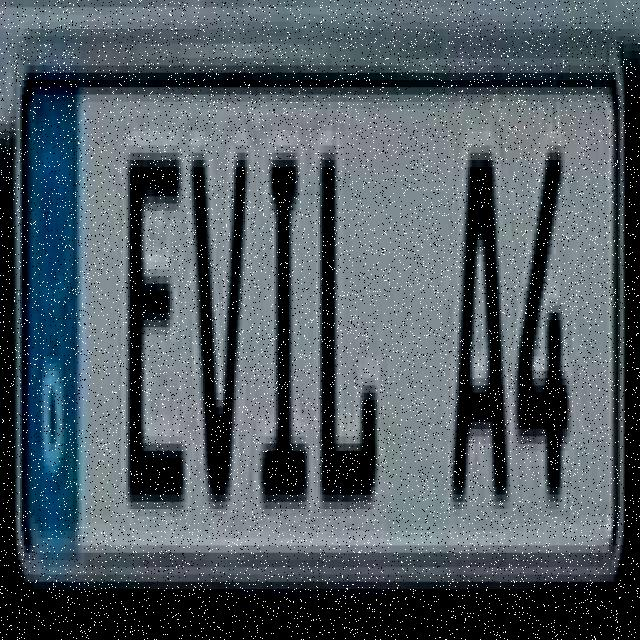licenseplate: (9, 19, 626, 611)
